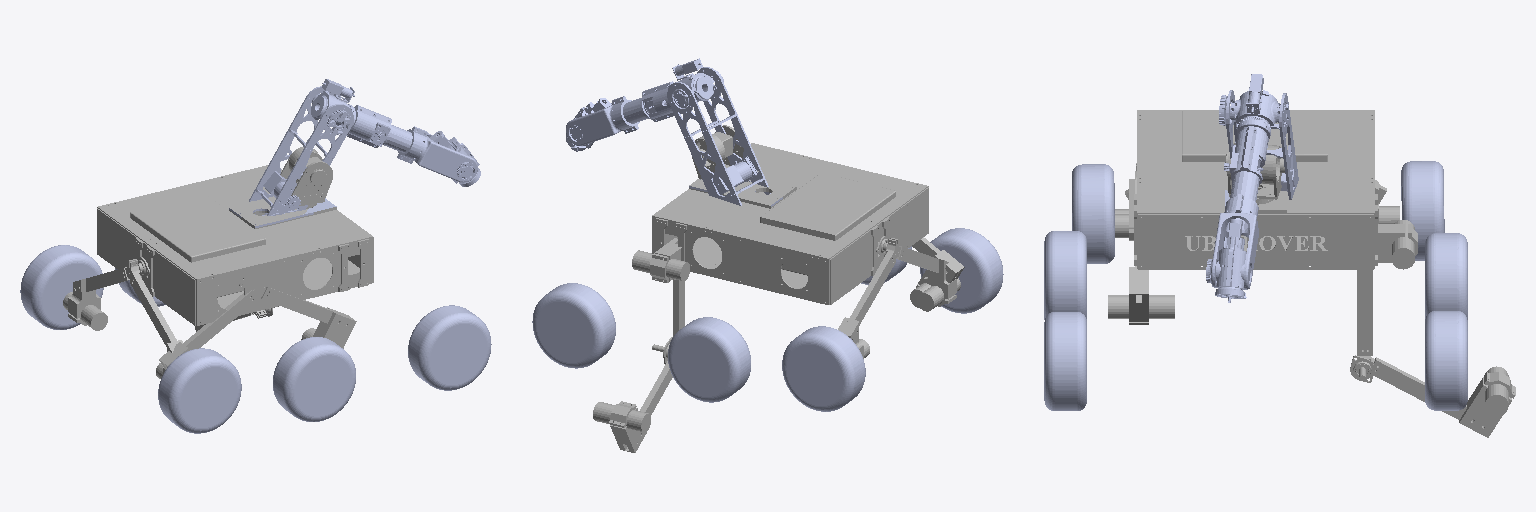
--- What the picture shows (computed from the rendered views, not written in the file) ---
The picture shows the robot from 3 angles, left to right: view 1: azimuth 30°, elevation 25°; view 2: azimuth 150°, elevation 25°; view 3: azimuth 270°, elevation 25°; orthographic projection.
Robot: chassisv003 — 18 links, 17 joints (15 continuous, 2 fixed); root link base_link; default pose: every joint at zero.
Visible links, largest first — view 1: chassis_link, right_front_wheel_link, rear_right_wheel_link, right_rear_wheel_link, rear_left_wheel_link, Axis_4, Axis_2, right_bogie_link, rear_bogie_link, Axis_1, Axis_3, Axis_5; view 2: chassis_link, rear_left_wheel_link, left_rear_wheel_link, left_front_wheel_link, Axis_2, left_bogie_link, rear_right_wheel_link, rear_bogie_link, Axis_4, right_bogie_link, Axis_1, Axis_3; view 3: chassis_link, left_bogie_link, Axis_4, left_front_wheel_link, right_front_wheel_link, rear_right_wheel_link, right_rear_wheel_link, left_rear_wheel_link, rear_left_wheel_link, right_bogie_link, Axis_3, Axis_5 (+3 smaller).
Link boxes in pixels (<box>): chassis_link: <box>97,165,373,325</box>; right_front_wheel_link: <box>408,305,491,390</box>; rear_right_wheel_link: <box>158,348,241,433</box>; right_rear_wheel_link: <box>273,337,355,421</box>; rear_left_wheel_link: <box>20,245,103,329</box>; Axis_4: <box>311,96,477,182</box>; Axis_2: <box>249,86,353,215</box>; right_bogie_link: <box>159,278,356,369</box>; rear_bogie_link: <box>63,257,182,378</box>; Axis_1: <box>280,147,332,208</box>; Axis_3: <box>287,79,354,208</box>; Axis_5: <box>378,131,479,183</box>; chassis_link: <box>652,143,928,304</box>; rear_left_wheel_link: <box>782,326,865,411</box>; left_rear_wheel_link: <box>668,317,750,402</box>; left_front_wheel_link: <box>532,283,615,368</box>; Axis_2: <box>667,67,770,205</box>; left_bogie_link: <box>593,238,689,452</box>; rear_right_wheel_link: <box>920,228,1003,313</box>; rear_bogie_link: <box>838,236,960,358</box>; Axis_4: <box>566,77,713,145</box>; right_bogie_link: <box>910,237,964,307</box>; Axis_1: <box>692,125,743,178</box>; Axis_3: <box>672,58,723,107</box>; chassis_link: <box>1134,110,1377,269</box>; left_bogie_link: <box>1350,220,1515,437</box>; Axis_4: <box>1211,116,1270,289</box>; left_front_wheel_link: <box>1425,311,1467,410</box>; right_front_wheel_link: <box>1044,312,1086,410</box>; rear_right_wheel_link: <box>1072,164,1114,263</box>; right_rear_wheel_link: <box>1044,231,1086,319</box>; left_rear_wheel_link: <box>1425,233,1467,319</box>; rear_left_wheel_link: <box>1401,161,1444,260</box>; right_bogie_link: <box>1108,163,1174,324</box>; Axis_3: <box>1219,74,1288,125</box>; Axis_5: <box>1206,163,1250,290</box>.
Size in the robot's own frame: 1.23 by 1.13 by 0.9916 metres.
17 mesh visuals loaded from 17 distinct referenced files (17 binary STL).

URDF robot description (chassisv003):
<?xml version="1.0" encoding="utf-8"?>
<!-- This URDF was automatically created by SolidWorks to URDF Exporter! Originally created by Stephen Brawner ([email redacted]) 
     Commit Version: 1.6.0-4-g7f85cfe  Build Version: 1.6.7995.38578
     For more information, please see http://wiki.ros.org/sw_urdf_exporter -->
<robot
  name="chassisv003">
  <link
    name="base_link">
    <origin
      xyz="0.0 0.0 0.0"
      rpy="0.0 0 0.0" />
  </link>

  <joint
    name="base_to_chassis"
    type="fixed">
    <origin
      xyz="0.0 -0.0 0.37"
      rpy="0.0 0 -1.5708" />
    <parent
      link="base_link" />
    <child
      link="chassis_link" />
  </joint>
  <link
    name="chassis_link">
    <inertial>
      <origin
        xyz="0.0194781589720715 -0.674598541868557 -0.00457394319723167"
        rpy="0 0 0" />
      <mass
        value="18.1994054549115" />
      <inertia
        ixx="0.159291502636247"
        ixy="-8.69156117623407E-07"
        ixz="5.7911898183188E-06"
        iyy="0.21512263859981"
        iyz="-2.02742682900189E-06"
        izz="0.318396171610065" />
    </inertial>
    <visual>
      <origin
        xyz="0 0 0"
        rpy="0 0 0" />
      <geometry>
        <mesh
          filename="package://rover_description/meshes/Chassis_Frame.STL" />
      </geometry>
      <material
        name="">
        <color
          rgba="0.752941176470588 0.752941176470588 0.752941176470588 1" />
      </material>
    </visual>
    <collision>
      <origin
        xyz="0 0 0"
        rpy="0 0 0" />
      <geometry>
        <mesh
          filename="package://rover_description/meshes/Chassis_Frame.STL" />
      </geometry>
    </collision>
  </link>
  <link
    name="right_bogie_link">
    <inertial>
      <origin
        xyz="-0.00252217416460354 -0.18383437396359 0.0866695836164639"
        rpy="0 0 0" />
      <mass
        value="3.31963081797322" />
      <inertia
        ixx="0.00508620037719097"
        ixy="2.48205501145382E-05"
        ixz="-3.79443217145095E-18"
        iyy="0.00752279025910882"
        iyz="9.25232616939048E-19"
        izz="0.00817487968452378" />
    </inertial>
    <visual>
      <origin
        xyz="0 0 0"
        rpy="0 0 0" />
      <geometry>
        <mesh
          filename="package://rover_description/meshes/right_bogie_link.STL" />
      </geometry>
      <material
        name="">
        <color
          rgba="0.752941176470588 0.752941176470588 0.752941176470588 1" />
      </material>
    </visual>
    <collision>
      <origin
        xyz="0 0 0"
        rpy="0 0 0" />
      <geometry>
        <mesh
          filename="package://rover_description/meshes/right_bogie_link.STL" />
      </geometry>
    </collision>
  </link>
  <joint
    name="right_bogie_joint"
    type="continuous">
    <origin
      xyz="0.259542475841999 -0.364544401908454 -0.0202630675847376"
      rpy="1.5707963267949 0 1.5707963267949" />
    <parent
      link="chassis_link" />
    <child
      link="right_bogie_link" />
    <axis
      xyz="0 0 1" />
    <dynamics
      friction="0.01" />
  </joint>
  <link
    name="right_front_wheel_link">
    <inertial>
      <origin
        xyz="1.51778940091218E-06 8.18855412365593E-08 0.0507999473262948"
        rpy="0 0 0" />
      <mass
        value="4.35667847297499" />
      <inertia
        ixx="0.0184751485545232"
        ixy="-1.06421238100641E-08"
        ixz="-3.20543504920431E-12"
        iyy="0.0184759333023273"
        iyz="-8.42622724163675E-09"
        izz="0.0299150459842503" />
    </inertial>
    <visual>
      <origin
        xyz="0 0 0"
        rpy="0 0 0" />
      <geometry>
        <mesh
          filename="package://chassisv003/meshes/right_front_wheel_link.STL" />
      </geometry>
      <material
        name="">
        <color
          rgba="0.792156862745098 0.819607843137255 0.933333333333333 1" />
      </material>
    </visual>
    <collision>
      <origin
        xyz="0 0 0"
        rpy="0 0 0" />
      <geometry>
        <mesh
          filename="package://chassisv003/meshes/right_front_wheel_link.STL" />
      </geometry>
    </collision>
  </link>
  <joint
    name="right_front_wheel_joint"
    type="continuous">
    <origin
      xyz="0.220314861303762 -0.244262138749221 0.162050000000001"
      rpy="0 0 0" />
    <parent
      link="right_bogie_link" />
    <child
      link="right_front_wheel_link" />
    <axis
      xyz="0 0 1" />
  </joint>
  <link
    name="right_rear_wheel_link">
    <inertial>
      <origin
        xyz="1.51778939916358E-06 8.18855394602025E-08 0.0507999473262949"
        rpy="0 0 0" />
      <mass
        value="4.356678472975" />
      <inertia
        ixx="0.0184751485545232"
        ixy="-1.06421238042645E-08"
        ixz="-3.20581492097829E-12"
        iyy="0.0184759333023273"
        iyz="-8.42622762790033E-09"
        izz="0.0299150459842503" />
    </inertial>
    <visual>
      <origin
        xyz="0 0 0"
        rpy="0 0 0" />
      <geometry>
        <mesh
          filename="package://chassisv003/meshes/right_rear_wheel_link.STL" />
      </geometry>
      <material
        name="">
        <color
          rgba="0.792156862745098 0.819607843137255 0.933333333333333 1" />
      </material>
    </visual>
    <collision>
      <origin
        xyz="0 0 0"
        rpy="0 0 0" />
      <geometry>
        <mesh
          filename="package://chassisv003/meshes/right_rear_wheel_link.STL" />
      </geometry>
    </collision>
  </link>
  <joint
    name="right_rear_wheel_joint"
    type="continuous">
    <origin
      xyz="-0.226615050970832 -0.239545992505552 0.162050000000001"
      rpy="0 0 -0.105579687520261" />
    <parent
      link="right_bogie_link" />
    <child
      link="right_rear_wheel_link" />
    <axis
      xyz="0 0 1" />
  </joint>
  <link
    name="left_bogie_link">
    <inertial>
      <origin
        xyz="-0.000747301751692186 0.183839531331288 -0.0866695836164632"
        rpy="0 0 0" />
      <mass
        value="3.31963081797322" />
      <inertia
        ixx="0.00508606801927764"
        ixy="-1.71330159905979E-05"
        ixz="2.6565376067589E-18"
        iyy="0.00752292261702217"
        iyz="-1.85881970749017E-18"
        izz="0.0081748796845238" />
    </inertial>
    <visual>
      <origin
        xyz="0 0 0"
        rpy="0 0 0" />
      <geometry>
        <mesh
          filename="package://rover_description/meshes/left_bogie_link.STL" />
      </geometry>
      <material
        name="">
        <color
          rgba="0.752941176470588 0.752941176470588 0.752941176470588 1" />
      </material>
    </visual>
    <collision>
      <origin
        xyz="0 0 0"
        rpy="0 0 0" />
      <geometry>
        <mesh
          filename="package://rover_description/meshes/left_bogie_link.STL" />
      </geometry>
    </collision>
  </link>
  <joint
    name="left_bogie_joint"
    type="continuous">
    <origin
      xyz="-0.225074444158001 -0.364544401908454 -0.0202630675847374"
      rpy="-1.5707963267949 0 -1.5707963267949" />
    <parent
      link="chassis_link" />
    <child
      link="left_bogie_link" />
    <axis
      xyz="0 0 1" />
  </joint>
  <link
    name="left_front_wheel_link">
    <inertial>
      <origin
        xyz="1.51752351090773E-06 8.66735331006563E-08 0.0507999473262949"
        rpy="0 0 0" />
      <mass
        value="4.356678472975" />
      <inertia
        ixx="0.0184751486294821"
        ixy="-1.31176621308944E-08"
        ixz="2.33780812275571E-11"
        iyy="0.0184759332273684"
        iyz="-8.42619545129045E-09"
        izz="0.0299150459842503" />
    </inertial>
    <visual>
      <origin
        xyz="0 0 0"
        rpy="0 0 0" />
      <geometry>
        <mesh
          filename="package://chassisv003/meshes/left_front_wheel_link.STL" />
      </geometry>
      <material
        name="">
        <color
          rgba="0.792156862745098 0.819607843137255 0.933333333333333 1" />
      </material>
    </visual>
    <collision>
      <origin
        xyz="0 0 0"
        rpy="0 0 0" />
      <geometry>
        <mesh
          filename="package://chassisv003/meshes/left_front_wheel_link.STL" />
      </geometry>
    </collision>
  </link>
  <joint
    name="left_front_wheel_joint"
    type="continuous">
    <origin
      xyz="-0.224663301485685 0.240257852282757 -0.16205"
      rpy="3.14159265358979 0 0.105579687520261" />
    <parent
      link="left_bogie_link" />
    <child
      link="left_front_wheel_link" />
    <axis
      xyz="0 0 1" />
  </joint>
  <link
    name="left_rear_wheel_link">
    <inertial>
      <origin
        xyz="1.51752351262857E-06 -8.66735314075662E-08 -0.0507999473262949"
        rpy="0 0 0" />
      <mass
        value="4.35667847297499" />
      <inertia
        ixx="0.0184751486294821"
        ixy="1.31176621309568E-08"
        ixz="-2.33784524028266E-11"
        iyy="0.0184759332273684"
        iyz="-8.42619583448232E-09"
        izz="0.0299150459842503" />
    </inertial>
    <visual>
      <origin
        xyz="0 0 0"
        rpy="0 0 0" />
      <geometry>
        <mesh
          filename="package://chassisv003/meshes/left_rear_wheel_link.STL" />
      </geometry>
      <material
        name="">
        <color
          rgba="0.792156862745098 0.819607843137255 0.933333333333333 1" />
      </material>
    </visual>
    <collision>
      <origin
        xyz="0 0 0"
        rpy="0 0 0" />
      <geometry>
        <mesh
          filename="package://chassisv003/meshes/left_rear_wheel_link.STL" />
      </geometry>
    </collision>
  </link>
  <joint
    name="left_rear_wheel_joint"
    type="continuous">
    <origin
      xyz="0.22227926535677 0.243563977725808 -0.16205"
      rpy="0 0 0" />
    <parent
      link="left_bogie_link" />
    <child
      link="left_rear_wheel_link" />
    <axis
      xyz="0 0 -1" />
  </joint>
  <link
    name="rear_bogie_link">
    <inertial>
      <origin
        xyz="-0.000589622690915559 -0.0634988014691701 -0.444868015439794"
        rpy="0 0 0" />
      <mass
        value="2.00965302866471" />
      <inertia
        ixx="0.00768618618289315"
        ixy="2.74684349117226E-19"
        ixz="-3.81973230377841E-18"
        iyy="0.00629020035829458"
        iyz="3.03037907435255E-09"
        izz="0.00234207568993634" />
    </inertial>
    <visual>
      <origin
        xyz="0.0 0.25594772 -0.01"
        rpy="0 3.1459 3.1459" />
      <geometry>
        <mesh
          filename="package://rover_description/meshes/back_bogie_link.STL" />
      </geometry>
      <material
        name="">
        <color
          rgba="0.752941176470588 0.752941176470588 0.752941176470588 1" />
      </material>
    </visual>
    <collision>
      <origin
        xyz="0 0.23914772 0"
        rpy="0 0 0" />
      <geometry>
        <mesh
          filename="package://rover_description/meshes/back_bogie_link.STL" />
      </geometry>
    </collision>
  </link>
  <joint
    name="rear_bogie_joint"
    type="continuous">
    <origin
      xyz="0.0145968814 -0.93190846 0.0"
      rpy="-1.58134825244613 0 -1.5707963267949" />
    <parent
      link="chassis_link" />
    <child
      link="rear_bogie_link" />
    <axis
      xyz="1 0 0" />
  </joint>
  <link
    name="rear_left_wheel_link">
    <inertial>
      <origin
        xyz="1.51778940082892E-06 8.18855410700259E-08 0.0507999473262949"
        rpy="0 0 0" />
      <mass
        value="4.356678472975" />
      <inertia
        ixx="0.0184751485545232"
        ixy="-1.0642123819999E-08"
        ixz="-3.20542923333518E-12"
        iyy="0.0184759333023273"
        iyz="-8.42622725507694E-09"
        izz="0.0299150459842503" />
    </inertial>
    <visual>
      <origin
        xyz="0 0 0.0"
        rpy="0 0 0" />
      <geometry>
        <mesh
          filename="package://chassisv003/meshes/rear_left_wheel_link.STL" />
      </geometry>
      <material
        name="">
        <color
          rgba="0.792156862745098 0.819607843137255 0.933333333333333 1" />
      </material>
    </visual>
    <collision>
      <origin
        xyz="0 0 0.0"
        rpy="0 0 0" />
      <geometry>
        <mesh
          filename="package://chassisv003/meshes/rear_left_wheel_link.STL" />
      </geometry>
    </collision>
  </link>
  <joint
    name="rear_left_wheel_joint"
    type="continuous">
    <origin
      xyz="0 0.23914772 -0.444868085"
      rpy="0 0 -3.13104072793909" />
    <parent
      link="rear_bogie_link" />
    <child
      link="rear_left_wheel_link" />
    <axis
      xyz="0 0 1" />
  </joint>
  <link
    name="rear_right_wheel_link">
    <inertial>
      <origin
        xyz="1.51778940105096E-06 -8.18855416806485E-08 -0.0507999473262948"
        rpy="0 0 0" />
      <mass
        value="4.356678472975" />
      <inertia
        ixx="0.0184751485545232"
        ixy="1.06421238121808E-08"
        ixz="3.2054426505839E-12"
        iyy="0.0184759333023273"
        iyz="-8.42622711881601E-09"
        izz="0.0299150459842503" />
    </inertial>
    <visual>
      <origin
        xyz="0 0 0.0"
        rpy="0 0 0" />
      <geometry>
        <mesh
          filename="package://chassisv003/meshes/rear_right_wheel_llink.STL" />
      </geometry>
      <material
        name="">
        <color
          rgba="0.792156862745098 0.819607843137255 0.933333333333333 1" />
      </material>
    </visual>
    <collision>
      <origin
        xyz="0 0 0.0"
        rpy="0 0 0" />
      <geometry>
        <mesh
          filename="package://chassisv003/meshes/rear_right_wheel_llink.STL" />
      </geometry>
    </collision>
  </link>
  <joint
    name="rear_right_wheel_joint"
    type="continuous">
    <origin
      xyz="0 0.23914772 0.444868085"
      rpy="0 0 0" />
    <parent
      link="rear_bogie_link" />
    <child
      link="rear_right_wheel_link" />
    <axis
      xyz="0 0 -1" />
  </joint>
  <link
    name="arm_link">
    <inertial>
      <origin
        xyz="-0.0477985055997259 -0.0352326124467943 0.00312955608244202"
        rpy="0 0 0" />
      <mass
        value="0.232083853065316" />
      <inertia
        ixx="0.000808900388660283"
        ixy="-0.00045117057053435"
        ixz="3.23063350248503E-19"
        iyy="0.00108878956515546"
        iyz="2.88580132867235E-19"
        izz="0.0018961637397099" />
    </inertial>
    <visual>
      <origin
        xyz="0 0 0"
        rpy="0 0 0" />
      <geometry>
        <mesh
          filename="package://rover_description/meshes/Arm.STL" />
      </geometry>
      <material
        name="">
        <color
          rgba="0.792156862745098 0.819607843137255 0.933333333333333 1" />
      </material>
    </visual>
    <collision>
      <origin
        xyz="0 0 0"
        rpy="0 0 0" />
      <geometry>
        <mesh
          filename="package://rover_description/meshes/Arm.STL" />
      </geometry>
    </collision>
  </link>
  <joint
    name="arm_joint"
    type="fixed">
    <origin
      xyz="0.017177 -0.37345 0.064678"
      rpy="-3.1416 0 2.2059" />
    <parent
      link="chassis_link" />
    <child
      link="arm_link" />
    <axis
      xyz="0 0 0" />
  </joint>
  <link
    name="Axis_1">
    <inertial>
      <origin
        xyz="0.00533143411780451 -0.00443747075635542 0.0621628028964215"
        rpy="0 0 0" />
      <mass
        value="0.806942884675543" />
      <inertia
        ixx="0.000915177079263181"
        ixy="0.000130358110680842"
        ixz="-5.27078323383203E-05"
        iyy="0.000834903089479575"
        iyz="7.02912626220492E-05"
        izz="0.00094963789281678" />
    </inertial>
    <visual>
      <origin
        xyz="0 0 0"
        rpy="0 0 0" />
      <geometry>
        <mesh
          filename="package://rover_description/meshes/Axis_1.STL" />
      </geometry>
      <material
        name="">
        <color
          rgba="0.752941176470588 0.752941176470588 0.752941176470588 1" />
      </material>
    </visual>
    <collision>
      <origin
        xyz="0 0 0"
        rpy="0 0 0" />
      <geometry>
        <mesh
          filename="package://rover_description/meshes/Axis_1.STL" />
      </geometry>
    </collision>
  </link>
  <joint
    name="J1"
    type="continuous">
    <origin
      xyz="0 0.01 0"
      rpy="3.1416 0 -0.15031" />
    <parent
      link="arm_link" />
    <child
      link="Axis_1" />
    <axis
      xyz="0 0 1" />
  </joint>
  <link
    name="Axis_2">
    <inertial>
      <origin
        xyz="-0.0792879650387348 -0.0374774475075469 -0.00119909962756731"
        rpy="0 0 0" />
      <mass
        value="1.11833636541395" />
      <inertia
        ixx="0.0112903031926762"
        ixy="4.91795053354935E-06"
        ixz="9.59984967509602E-07"
        iyy="0.00141194104590659"
        iyz="7.46219989748416E-06"
        izz="0.0110197921139019" />
    </inertial>
    <visual>
      <origin
        xyz="0 0 0.0"
        rpy="0 0 0" />
      <geometry>
        <mesh
          filename="package://rover_description/meshes/Axis_2.STL" />
      </geometry>
      <material
        name="">
        <color
          rgba="0.792156862745098 0.819607843137255 0.933333333333333 1" />
      </material>
    </visual>
    <collision>
      <origin
        xyz="0 0 0"
        rpy="0 0 0" />
      <geometry>
        <mesh
          filename="package://rover_description/meshes/Axis_2.STL" />
      </geometry>
    </collision>
  </link>
  <joint
    name="J2"
    type="continuous">
    <origin
      xyz="0.065 0.055 0.11"
      rpy="2.1053 0 0.63509" />
    <parent
      link="Axis_1" />
    <child
      link="Axis_2" />
    <axis
      xyz="1 0 0" />
  </joint>
  <link
    name="Axis_3">
    <inertial>
      <origin
        xyz="-0.177860531990118 -0.229002221909752 -0.168526766868434"
        rpy="0 0 0" />
      <mass
        value="0.315238010654722" />
      <inertia
        ixx="0.000287891199207417"
        ixy="2.11380283665009E-05"
        ixz="-1.05853873569157E-06"
        iyy="0.000297440212924729"
        iyz="-2.52338452951327E-06"
        izz="0.000181117976352556" />
    </inertial>
    <visual>
      <origin
        xyz="0 0 0"
        rpy="0 0 0" />
      <geometry>
        <mesh
          filename="package://rover_description/meshes/Axis_3.STL" />
      </geometry>
      <material
        name="">
        <color
          rgba="0.792156862745098 0.819607843137255 0.933333333333333 1" />
      </material>
    </visual>
    <collision>
      <origin
        xyz="0 0 0"
        rpy="0 0 0" />
      <geometry>
        <mesh
          filename="package://rover_description/meshes/Axis_3.STL" />
      </geometry>
    </collision>
  </link>
  <joint
    name="J3"
    type="continuous">
    <origin
      xyz="-0.23569 -0.087829 -0.0037519"
      rpy="1.5708 0.89688 -1.5708" />
    <parent
      link="Axis_2" />
    <child
      link="Axis_3" />
    <axis
      xyz="1 0 0" />
  </joint>
  <link
    name="Axis_4">
    <inertial>
      <origin
        xyz="-0.000728157152736608 0.000525658570672105 0.175741311829104"
        rpy="0 0 0" />
      <mass
        value="1.04432383241743" />
      <inertia
        ixx="0.00525323858585558"
        ixy="3.11334770659038E-05"
        ixz="6.58925562122348E-06"
        iyy="0.00527392420385386"
        iyz="-4.75671087351871E-06"
        izz="0.00131026306361566" />
    </inertial>
    <visual>
      <origin
        xyz="0 0 0"
        rpy="0 0 0" />
      <geometry>
        <mesh
          filename="package://rover_description/meshes/Axis_4.STL" />
      </geometry>
      <material
        name="">
        <color
          rgba="0.792156862745098 0.819607843137255 0.933333333333333 1" />
      </material>
    </visual>
    <collision>
      <origin
        xyz="0 0 0"
        rpy="0 0 0" />
      <geometry>
        <mesh
          filename="package://rover_description/meshes/Axis_4.STL" />
      </geometry>
    </collision>
  </link>
  <joint
    name="J4"
    type="continuous">
    <origin
      xyz="-0.19367 -0.18832 -0.1742"
      rpy="1.5708 0.94291 -2.2385" />
    <parent
      link="Axis_3" />
    <child
      link="Axis_4" />
    <axis
      xyz="1 0 0" />
  </joint>
  <link
    name="Axis_5">
    <inertial>
      <origin
        xyz="-0.0102060777999421 0.0299772381028147 0.0283371876416308"
        rpy="0 0 0" />
      <mass
        value="0.292157049786524" />
      <inertia
        ixx="0.000350020526589252"
        ixy="4.61969257518864E-05"
        ixz="1.55314231304865E-06"
        iyy="0.000251179817698524"
        iyz="-3.34039930499824E-06"
        izz="0.000356943911820366" />
    </inertial>
    <visual>
      <origin
        xyz="0 0 0"
        rpy="0 0 0" />
      <geometry>
        <mesh
          filename="package://rover_description/meshes/Axis_5.STL" />
      </geometry>
      <material
        name="">
        <color
          rgba="0.792156862745098 0.819607843137255 0.933333333333333 1" />
      </material>
    </visual>
    <collision>
      <origin
        xyz="0 0 0"
        rpy="0 0 0" />
      <geometry>
        <mesh
          filename="package://rover_description/meshes/Axis_5.STL" />
      </geometry>
    </collision>
  </link>
  <joint
    name="J5"
    type="continuous">
    <origin
      xyz="-0.026332 0.019007 0.43639"
      rpy="-1.5708 0.078756 -2.196" />
    <parent
      link="Axis_4" />
    <child
      link="Axis_5" />
    <axis
      xyz="0 1 0" />
  </joint>
  <link
    name="Axis_6">
    <inertial>
      <origin
        xyz="0.032926652089996 0.00543778249297716 0.0226168399991655"
        rpy="0 0 0" />
      <mass
        value="0.150772297399764" />
      <inertia
        ixx="0.000139664763970518"
        ixy="5.12145203214631E-07"
        ixz="8.22255437779973E-08"
        iyy="0.00013880534583195"
        iyz="4.83939019279555E-07"
        izz="6.09308789523862E-05" />
    </inertial>
    <visual>
      <origin
        xyz="0 0 0"
        rpy="0 0 0" />
      <geometry>
        <mesh
          filename="package://rover_description/meshes/Axis_6.STL" />
      </geometry>
      <material
        name="">
        <color
          rgba="0.792156862745098 0.819607843137255 0.933333333333333 1" />
      </material>
    </visual>
    <collision>
      <origin
        xyz="0 0 0"
        rpy="0 0 0" />
      <geometry>
        <mesh
          filename="package://rover_description/meshes/Axis_6.STL" />
      </geometry>
    </collision>
  </link>
  <joint
    name="J6"
    type="continuous">
    <origin
      xyz="0 0 0"
      rpy="1.5708 -1.3993 0.37994" />
    <parent
      link="Axis_5" />
    <child
      link="Axis_6" />
    <axis
      xyz="0 0 1" />
  </joint>

  <!-- transmissions (what gets us moving) -->
    <!-- left bogie motors -->
<transmission name="left_rear_wheel_joint_trans">
  <type>transmission_interface/SimpleTransmission</type>
  <joint name="left_rear_wheel_joint">
    <hardwareInterface>hardware_interface/EffortJointInterface</hardwareInterface>
  </joint>
  <actuator name="left_rear_wheel_motor">
    <hardwareInterface>hardware_interface/EffortJointInterface</hardwareInterface>
    <mechanicalReduction>1</mechanicalReduction>
  </actuator>
</transmission>

 <transmission name="left_front_wheel_joint_trans">
  <type>transmission_interface/SimpleTransmission</type>
  <joint name="left_front_wheel_joint">
    <hardwareInterface>hardware_interface/EffortJointInterface</hardwareInterface>
  </joint>
  <actuator name="left_front_wheel_motor">
    <hardwareInterface>hardware_interface/EffortJointInterface</hardwareInterface>
    <mechanicalReduction>1</mechanicalReduction>
  </actuator>
</transmission>
    <!-- right bogie motors -->

<transmission name="right_front_wheel_joint_trans">
  <type>transmission_interface/SimpleTransmission</type>
  <joint name="right_front_wheel_joint">
    <hardwareInterface>hardware_interface/EffortJointInterface</hardwareInterface>
  </joint>
  <actuator name="right_front_wheel_motor">
    <hardwareInterface>hardware_interface/EffortJointInterface</hardwareInterface>
    <mechanicalReduction>1</mechanicalReduction>
  </actuator>
</transmission>

<transmission name="right_rear_wheel_joint_trans">
  <type>transmission_interface/SimpleTransmission</type>
  <joint name="right_rear_wheel_joint">
    <hardwareInterface>hardware_interface/EffortJointInterface</hardwareInterface>
  </joint>
  <actuator name="right_rear_wheel_motor">
    <hardwareInterface>hardware_interface/EffortJointInterface</hardwareInterface>
    <mechanicalReduction>1</mechanicalReduction>
  </actuator>
</transmission>

    <!-- rear bogie motors -->

<transmission name="rear_left_wheel_joint_trans">
  <type>transmission_interface/SimpleTransmission</type>
  <joint name="rear_left_wheel_joint">
    <hardwareInterface>hardware_interface/EffortJointInterface</hardwareInterface>
  </joint>
  <actuator name="rear_left_wheel_motor">
    <hardwareInterface>hardware_interface/EffortJointInterface</hardwareInterface>
    <mechanicalReduction>1</mechanicalReduction>
  </actuator>
</transmission>

<transmission name="rear_right_wheel_joint_trans">
  <type>transmission_interface/SimpleTransmission</type>
  <joint name="rear_right_wheel_joint">
    <hardwareInterface>hardware_interface/EffortJointInterface</hardwareInterface>
  </joint>
  <actuator name="rear_right_wheel_motor">
    <hardwareInterface>hardware_interface/EffortJointInterface</hardwareInterface>
    <mechanicalReduction>1</mechanicalReduction>
  </actuator>
</transmission>

<!-- gazebo stuff -->
  <gazebo reference="chassis_arm" >
  <plugin name="gazebo_ros_control" filename="libgazebo_ros_control.so">
  </plugin>
</gazebo> 

<!-- <gazebo reference="lidar1">
    <material>Gazebo/Red</material>

  <sensor name="laser" type="ray">
    <pose> 0 0 0 0 0 0 </pose>
    <visualize>true</visualize>
    <update_rate>10</update_rate>
    <ray> 
   <scan>
        <horizontal>
            <samples>360</samples>
            <min_angle>-3.14</min_angle>
            <max_angle>3.14</max_angle>
        </horizontal>
    </scan>
    <range>
        <min>0.3</min>
        <max>12</max>
    </range>    </ray>
    <plugin name="laser_controller" filename="libgazebo_ros_ray_sensor.so">
       <ros>
        <argument>~/out:=scan</argument>
    </ros>
    <output_type>sensor_msgs/LaserScan</output_type>
    <frame_name>lidar1</frame_name>
    </plugin>
</sensor>
</gazebo> -->

</robot>
